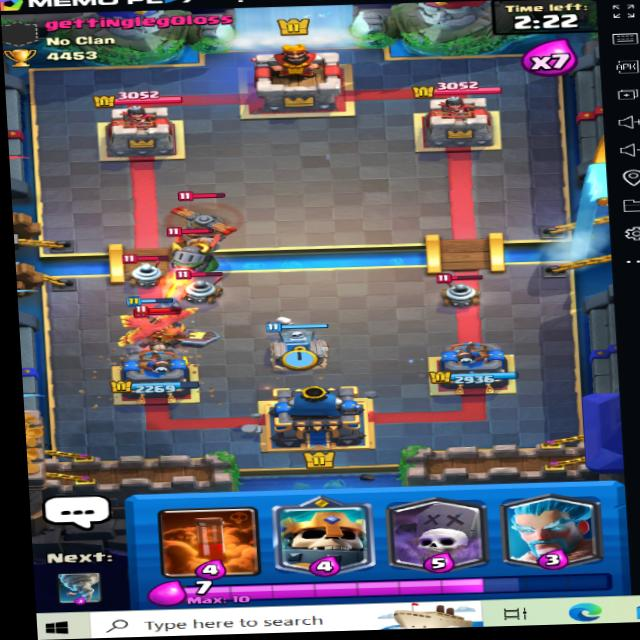Flyingmachine: (163, 194, 239, 254)
Infernodragon: (157, 219, 214, 279)
Zappies: (424, 272, 487, 312), (177, 267, 226, 303), (122, 254, 174, 286)
